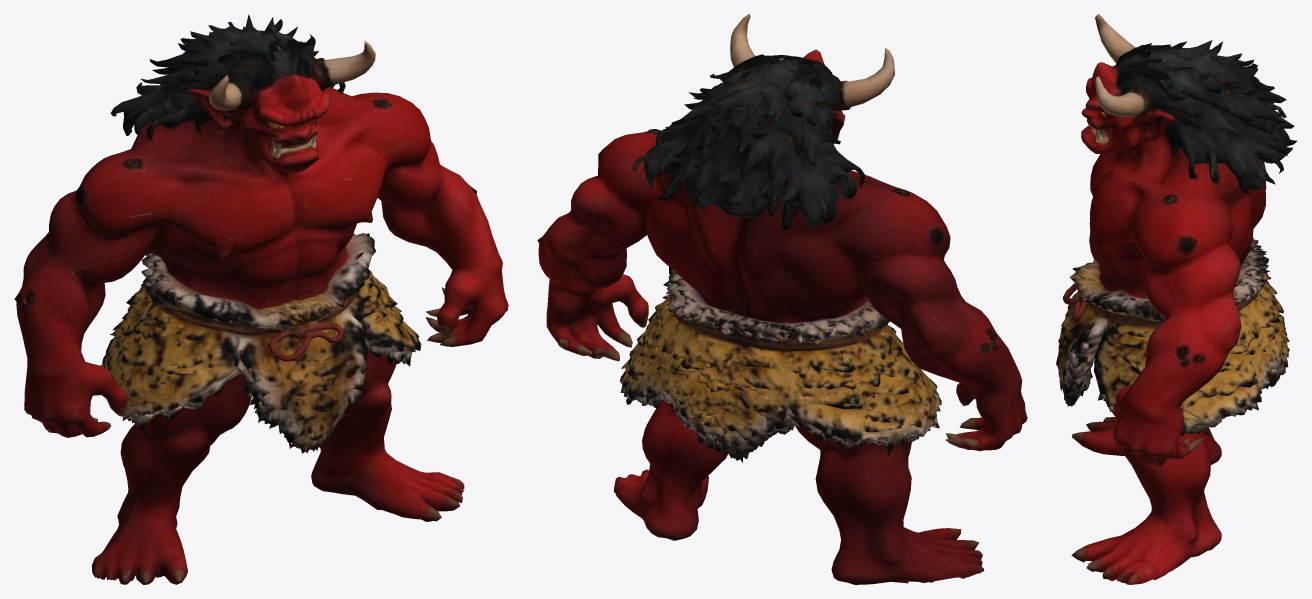
Rendered from oni.glb.
3 renders of one model, left to right at view 1: azimuth 30°, elevation 25°; view 2: azimuth 150°, elevation 25°; view 3: azimuth 270°, elevation 25°, orthographic. The views are drawn at different scales.
Visible parts, largest first — view 1: doll; view 2: doll; view 3: doll.
Part boxes in pixels (x1,y1,x2,y2): doll: (14,14,508,584); doll: (537,14,1027,584); doll: (1056,14,1297,584).
Size of the model in its own units: 1 by 1 by 0.4767.
Materials: 1 (1 with a texture image).
